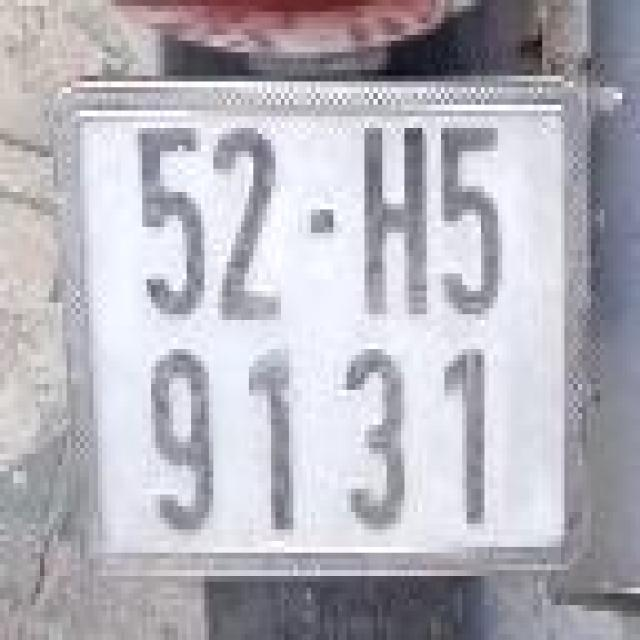1: (240, 337, 311, 547), (431, 340, 502, 544)
2: (200, 125, 298, 335)
3: (331, 340, 420, 532)
5: (429, 108, 518, 334), (118, 116, 211, 332)
9: (131, 338, 229, 541)
H: (356, 113, 436, 323)
